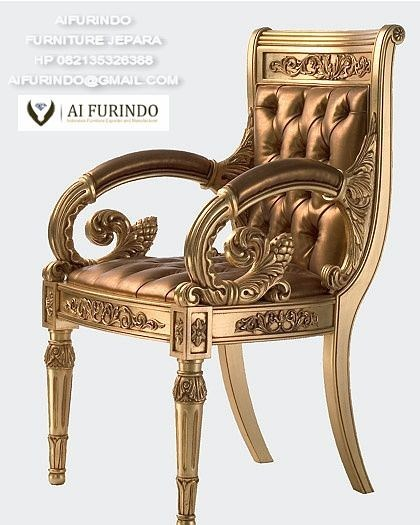Carving Chair: (42, 26, 399, 511)
